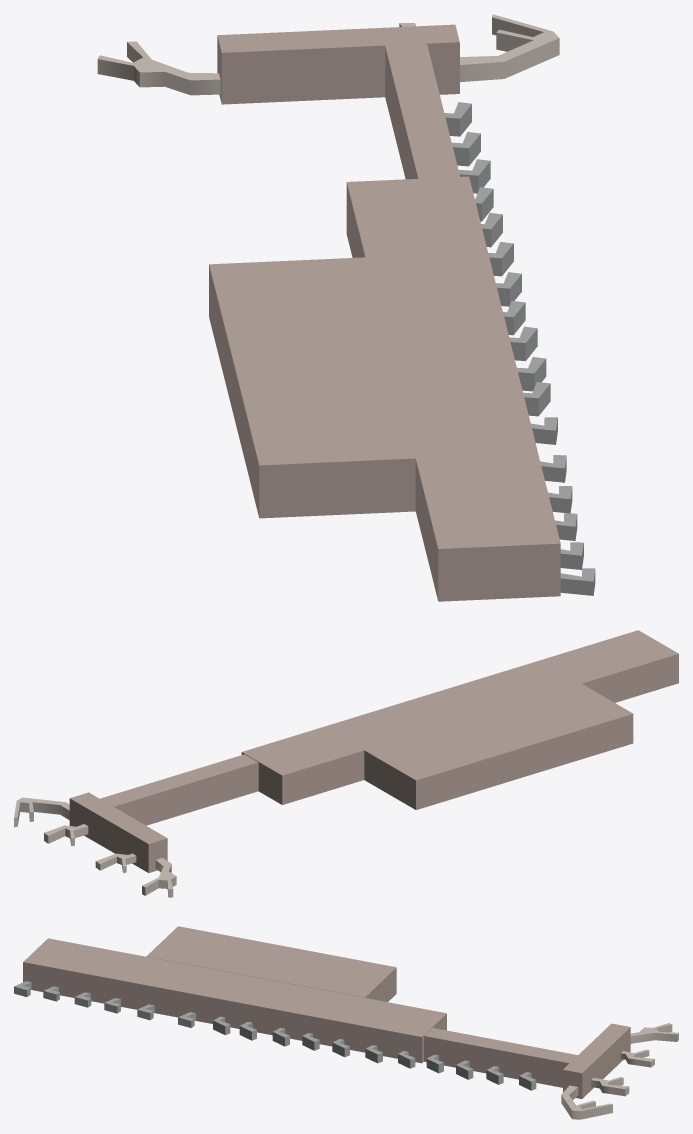
Rendered from T4changi.glb.
The picture shows the model from 3 angles, top to bottom: view 1: azimuth 30°, elevation 25°; view 2: azimuth 150°, elevation 25°; view 3: azimuth 270°, elevation 25°; orthographic projection. The views are drawn at different scales.
Parts seen in each view (by area): view 1: mesh_id37, mesh_id31, mesh_id44, mesh_id38, mesh_id84, mesh_id97; view 2: mesh_id37, mesh_id31, mesh_id38, mesh_id44, mesh_id84, mesh_id97, mesh_id89, mesh_id96; view 3: mesh_id37, mesh_id31, mesh_id38, mesh_id44, mesh_id84, mesh_id97, mesh_id89, mesh_id96.
Part boxes in pixels (x1,y1,x2,y2): mesh_id37: (346, 176, 560, 601); mesh_id31: (209, 257, 415, 518); mesh_id44: (217, 24, 459, 104); mesh_id38: (385, 43, 459, 179); mesh_id84: (460, 14, 559, 81); mesh_id97: (97, 41, 220, 95); mesh_id37: (241, 630, 678, 804); mesh_id31: (364, 683, 633, 809); mesh_id38: (100, 754, 258, 825); mesh_id44: (69, 792, 167, 872); mesh_id84: (14, 797, 69, 827); mesh_id97: (142, 858, 176, 897); mesh_id89: (44, 824, 88, 846); mesh_id96: (95, 853, 136, 872); mesh_id37: (23, 938, 446, 1063); mesh_id31: (146, 926, 396, 1001); mesh_id38: (424, 1028, 577, 1087); mesh_id44: (563, 1023, 630, 1098); mesh_id84: (561, 1085, 612, 1119); mesh_id97: (630, 1023, 678, 1044); mesh_id89: (591, 1077, 629, 1096); mesh_id96: (620, 1049, 654, 1067).
Size of the model in its own units: 20.25 by 1.48 by 33.51.
7 materials, 7 textured.
